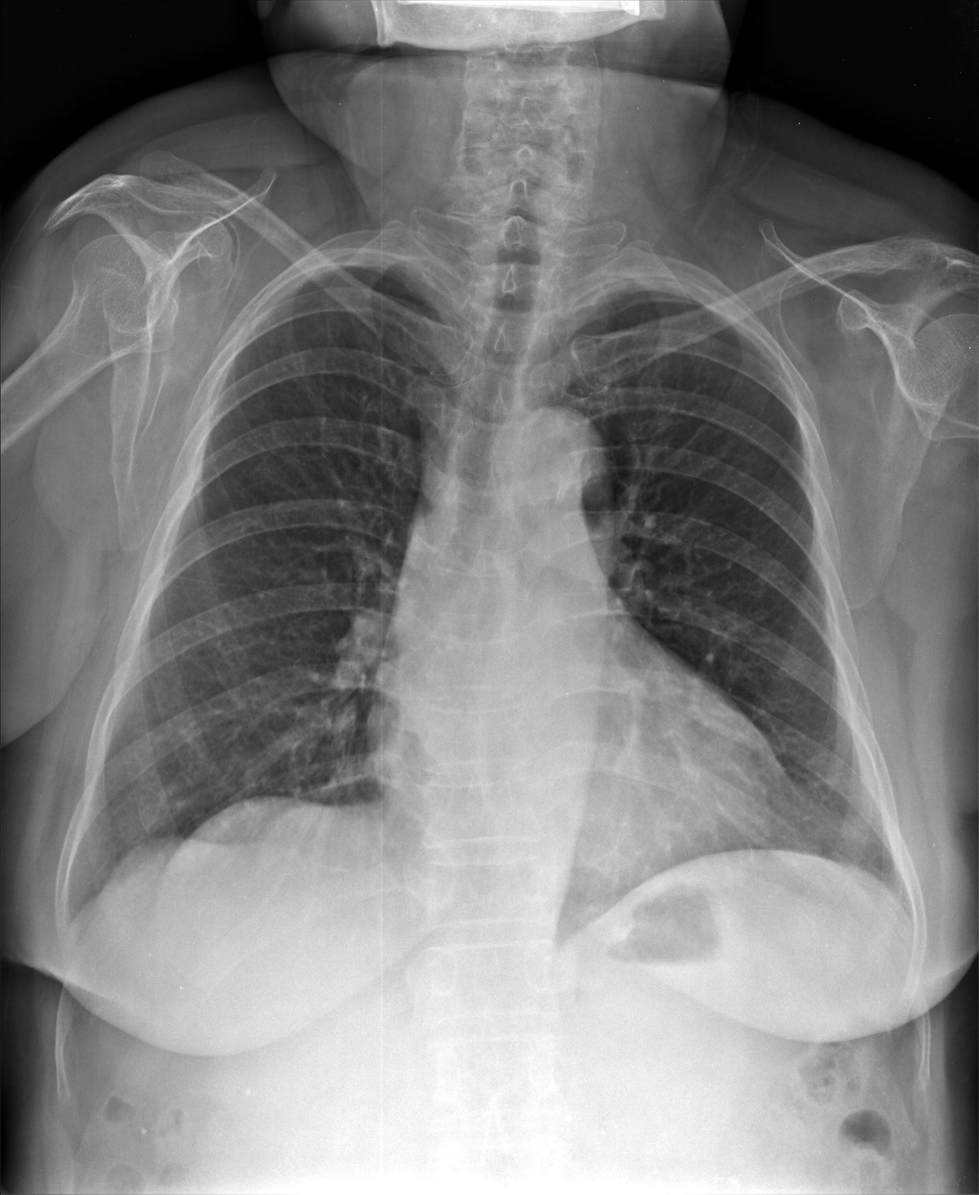Aortic enlargement: (491, 407, 612, 509)
